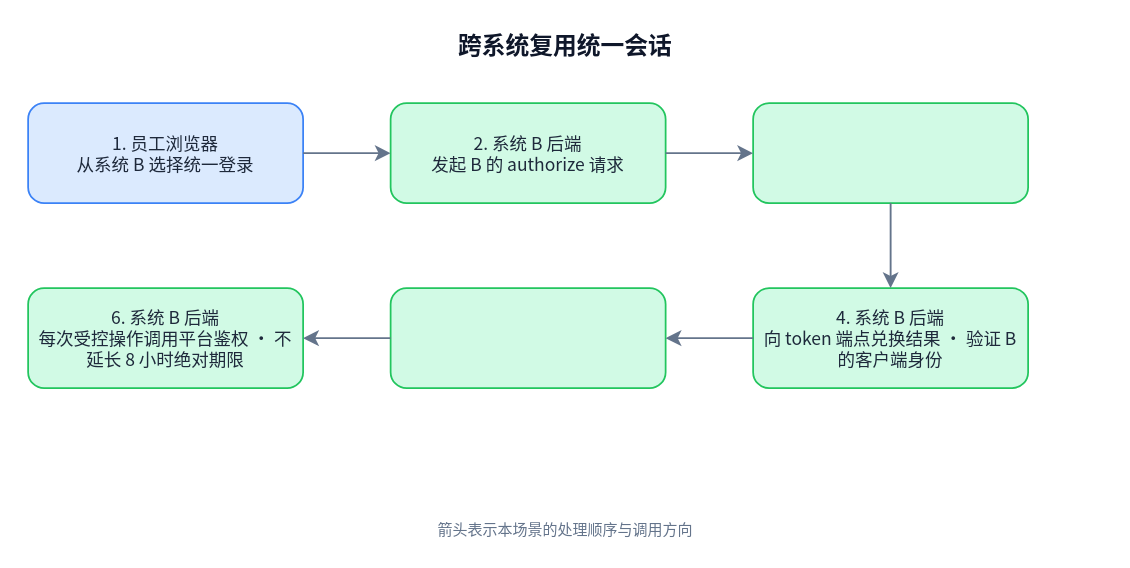
Image size: 1130x568. Some labels were removed from this diagram. Each missing label, with the centre of its shape:
"3. 身份与系统接入 复用有效会话 · 签发 B 专属登录结果" goes at point (890, 152).
"5. 系统 B 取得已验证员工身份" goes at point (527, 337).
